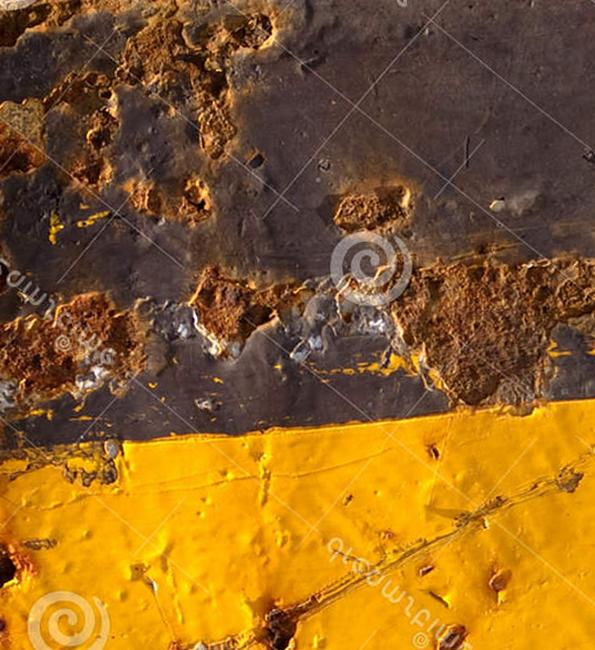rust: (336, 200, 591, 393), (62, 15, 274, 223), (6, 296, 140, 402), (186, 268, 355, 333)
